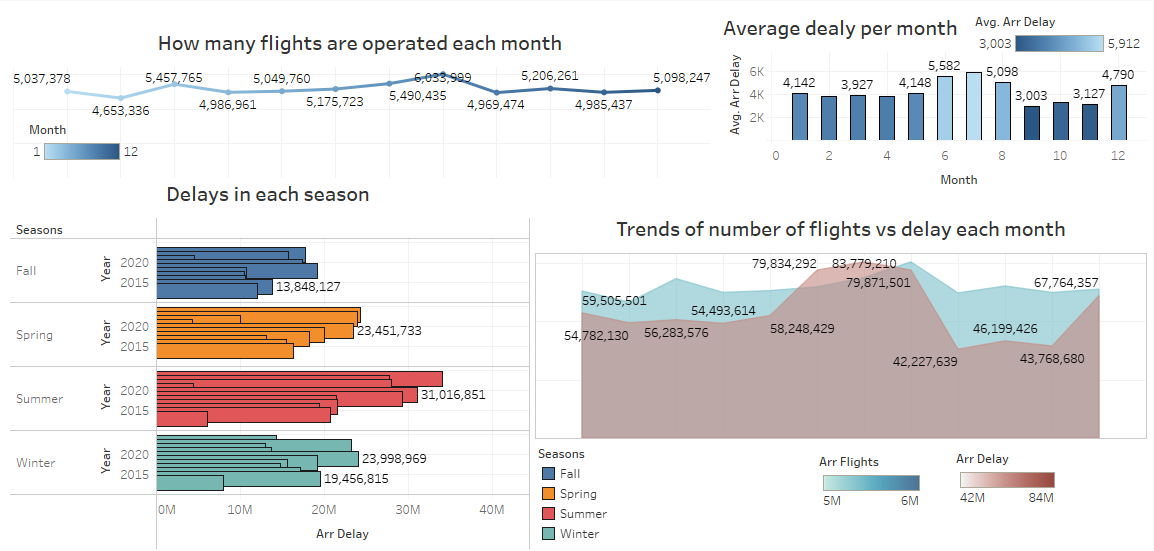

Layout of this report page (visuals, bound fields, positions):
{"tool":"tableau","page":{"name":"Monthly and seasonal overview","canvas":[1000,1000],"units":"permille","ordinal":2},"visuals":[{"type":"worksheet","title":"Sheet 3","mark":"Bar","rows":["arr_delay"],"cols":["month"],"box":[624.2,14.5,370.6,337]},{"type":"legend","title":"Sheet 3","param":"[federated.16tr0iu0la0rbz14hj3gu0cn3j2k].[avg:arr_delay:qk]","box":[845.9,21.7,147.2,83.3]},{"type":"worksheet","title":"Sheet 1","mark":"Line","rows":["arr_flights"],"cols":["month"],"box":[13,41.7,604.3,279]},{"type":"legend","title":"Sheet 1","param":"[federated.16tr0iu0la0rbz14hj3gu0cn3j2k].[none:month:qk]","box":[26.8,217.4,98.7,77.9]},{"type":"worksheet","title":"Sheet 4","mark":"Bar","rows":["Calculation_405323979363520512","year"],"cols":["arr_delay"],"box":[10.4,315.2,450.2,679.4]},{"type":"worksheet","title":"Sheet 2","mark":"Area","rows":["arr_flights","arr_delay"],"cols":["month"],"box":[464.9,378.6,529.9,414.9]},{"type":"legend","title":"Sheet 4","param":"[federated.16tr0iu0la0rbz14hj3gu0cn3j2k].[none:Calculation_405323979363520512:nk","box":[467.5,804.4,181,177.5]},{"type":"legend","title":"Sheet 2","param":"[federated.16tr0iu0la0rbz14hj3gu0cn3j2k].[sum:arr_delay:qk]","box":[829.4,813.4,89.2,105.1]},{"type":"legend","title":"Sheet 2","param":"[federated.16tr0iu0la0rbz14hj3gu0cn3j2k].[sum:arr_flights:qk]","box":[710.8,818.8,90.9,97.8]}]}

Visuals, with their boxes on the dashboard's canvas, which has no fixed pixel size, in thousandths of its width and height (x1, y1, x2, y2). These are canvas units, not pixel positions in the 1154x551 screenshot, which may show the page scaled, cropped or inside an application window:
"Sheet 3" worksheet (Bar marks): [624, 14, 995, 352]
"Sheet 3" legend: [846, 22, 993, 105]
"Sheet 1" worksheet (Line marks): [13, 42, 617, 321]
"Sheet 1" legend: [27, 217, 126, 295]
"Sheet 4" worksheet (Bar marks): [10, 315, 461, 995]
"Sheet 2" worksheet (Area marks): [465, 379, 995, 794]
"Sheet 4" legend: [468, 804, 648, 982]
"Sheet 2" legend: [829, 813, 919, 918]
"Sheet 2" legend: [711, 819, 802, 917]
